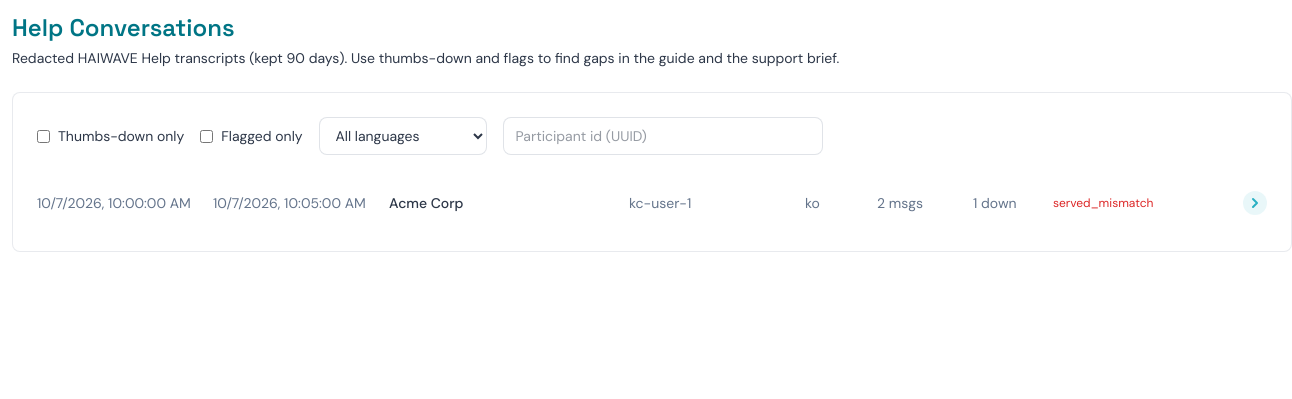
Test: AdminHelpPage › an answer with no recorded usage shows zeros
Step 1. Click the button with aria-label "Conversation 0b8a5a52-58b6-4a8e-9a39-9a1d4c7f1f10" → (652, 203), box [37, 179, 1267, 227]
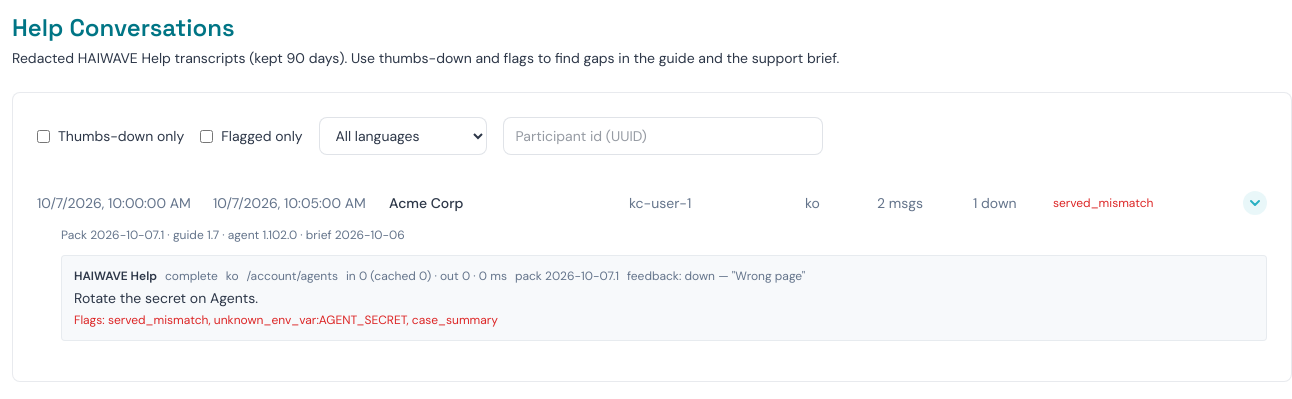
expect the text "in 0 (cached 0) · out 0 · 0 ms" is shown: met, box [346, 268, 507, 284]
